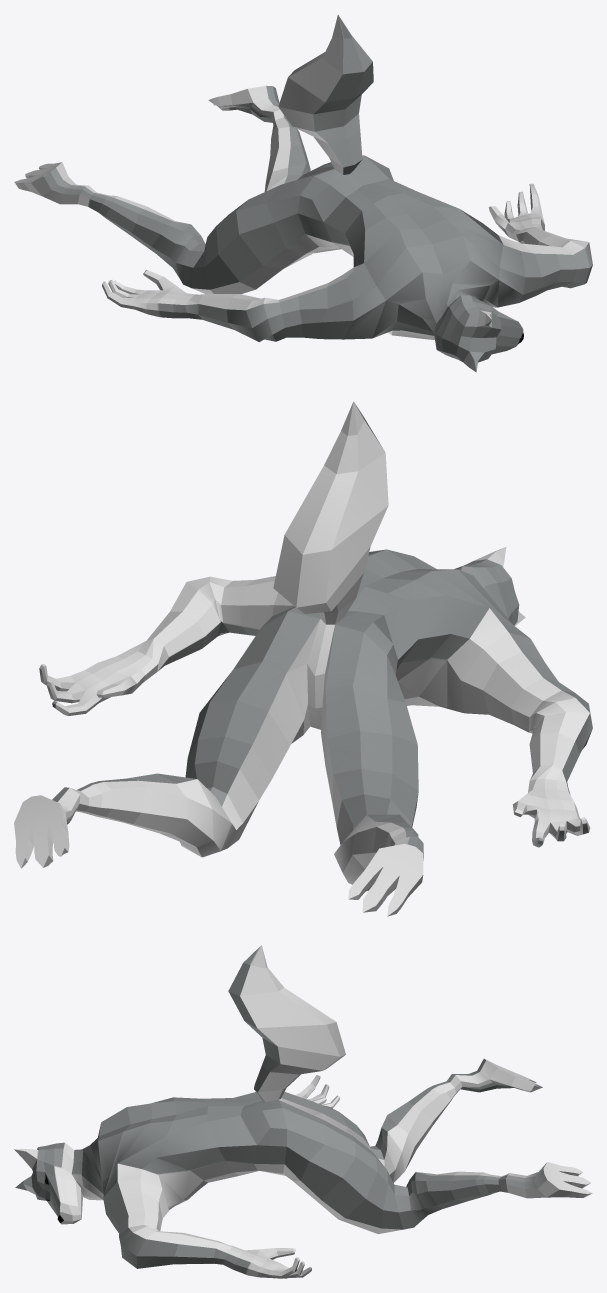
The model's file is WolfDead(106).obj.
3 renders of one model, top to bottom at view 1: azimuth 30°, elevation 25°; view 2: azimuth 150°, elevation 25°; view 3: azimuth 270°, elevation 25°, orthographic. The views are drawn at different scales.
Visible parts, largest first — view 1: Box001; view 2: Box001; view 3: Box001.
Boxes of the visible parts, <box> form: Box001: <box>14,15,592,372</box>; Box001: <box>14,401,592,916</box>; Box001: <box>14,945,592,1278</box>.
Bounding box in the file's own units: 127 × 86.99 × 164.
